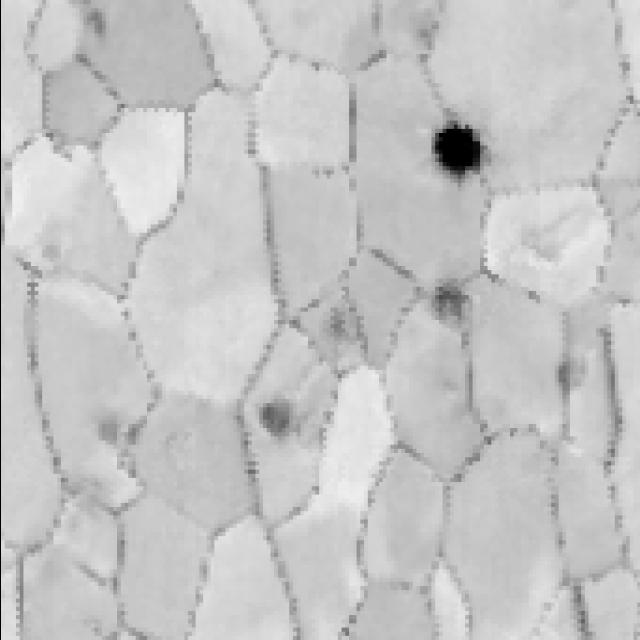good_void: (418, 103, 491, 185), (246, 392, 302, 450), (425, 266, 473, 328), (88, 397, 130, 448), (545, 348, 591, 392), (319, 301, 359, 349), (77, 5, 111, 49)
